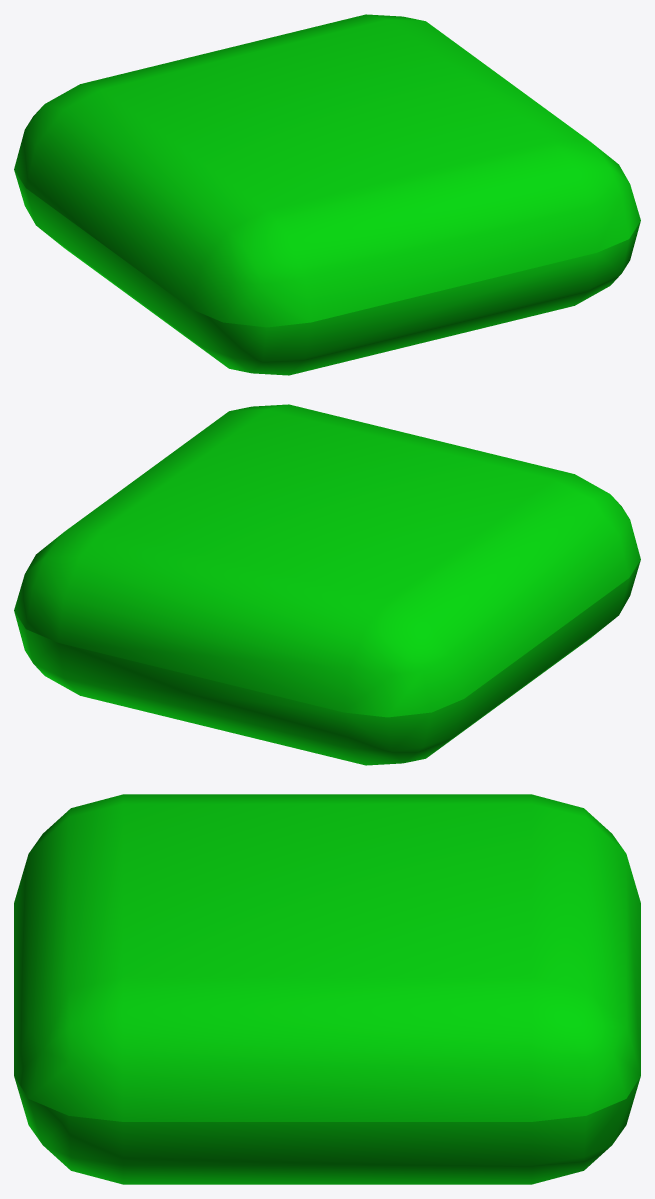
The model's file is quadrado verde.fbx.
3 views of the same model, one above another, from view 1: azimuth 30°, elevation 25°; view 2: azimuth 150°, elevation 25°; view 3: azimuth 270°, elevation 25° (orthographic). The views are drawn at different scales.
Parts seen in each view (by area): view 1: Cube.003; view 2: Cube.003; view 3: Cube.003.
Boxes of the visible parts, <box> form: Cube.003: <box>14,14,640,375</box>; Cube.003: <box>14,404,640,765</box>; Cube.003: <box>14,794,640,1184</box>.
Size of the model in its own units: 0.2355 by 0.082 by 0.2355.
